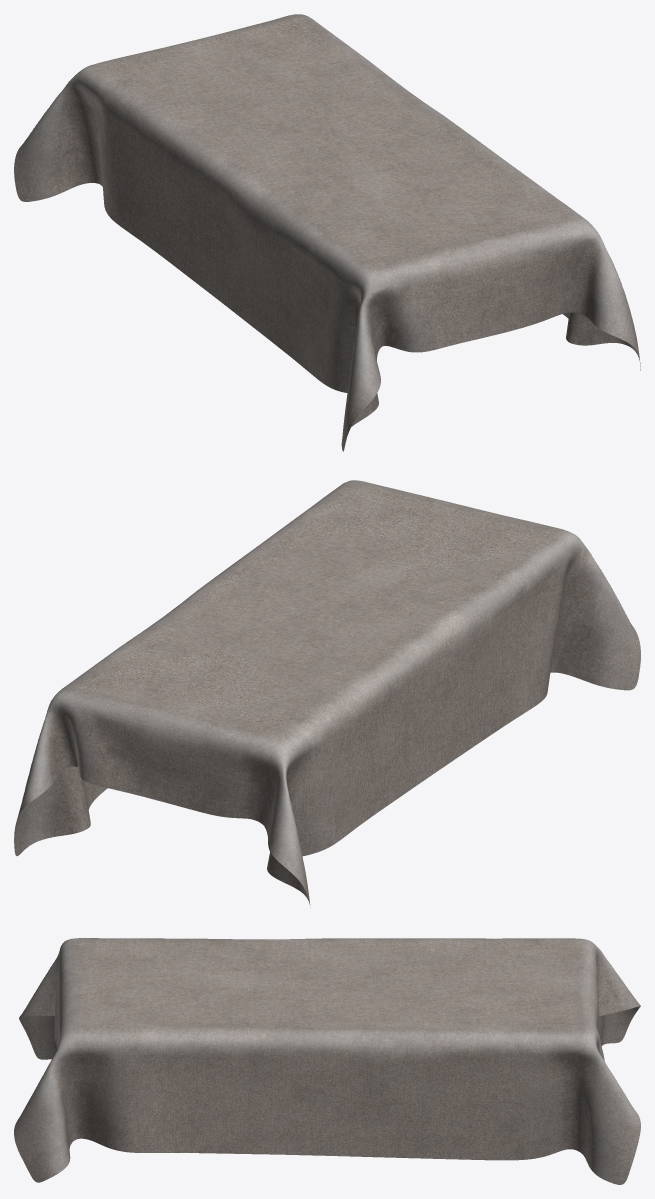
File: SM_TableCloth.fbx
3 views of the same model, one above another, from view 1: azimuth 30°, elevation 25°; view 2: azimuth 150°, elevation 25°; view 3: azimuth 270°, elevation 25° (orthographic). The views are drawn at different scales.
Parts seen in each view (by area): view 1: SM_TableCloth_LOD0; view 2: SM_TableCloth_LOD0; view 3: SM_TableCloth_LOD0.
Part boxes in pixels (left/top/right/bottom): SM_TableCloth_LOD0: left=14, top=14, right=640, bottom=451; SM_TableCloth_LOD0: left=14, top=480, right=640, bottom=907; SM_TableCloth_LOD0: left=14, top=938, right=640, bottom=1184.
Bounding box in the file's own units: 151 × 295 × 74.03.
Materials: 1 (1 with a texture image).
